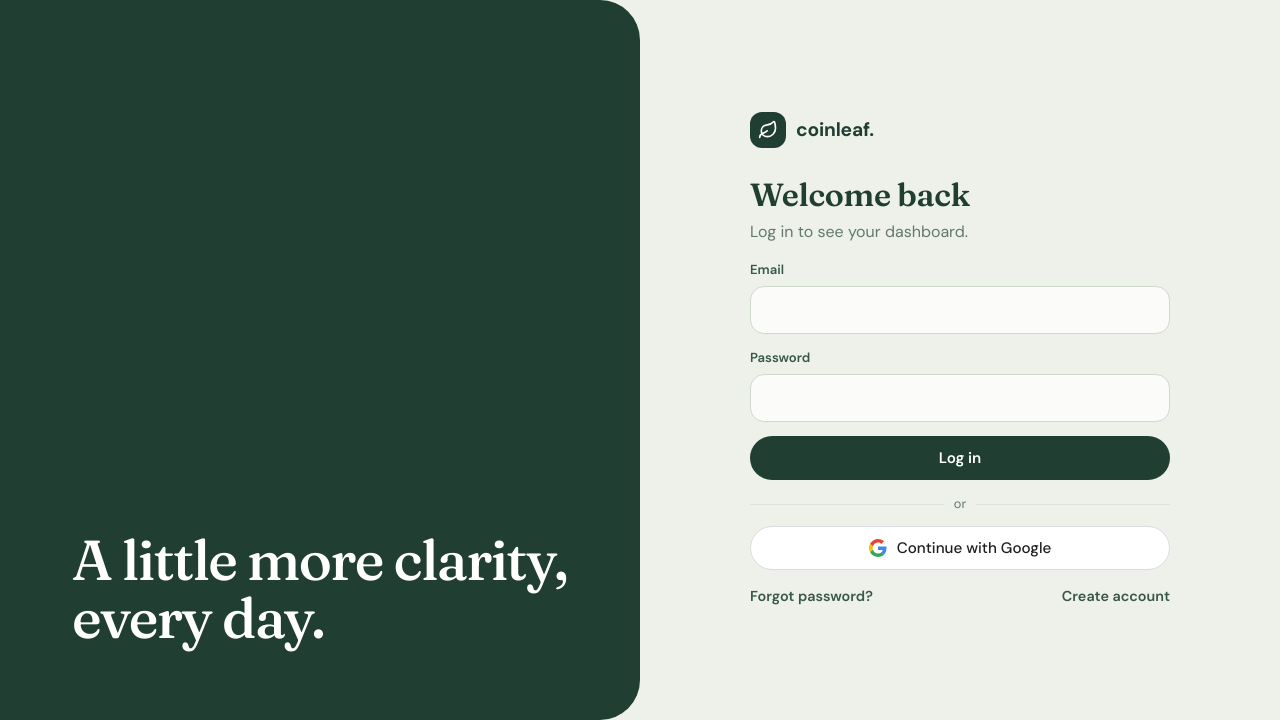
Test: login › shows the reason when sign in fails and lets you try again
Type "a@b.co" into the field labelled "Email" at (960, 310), box [750,286,1170,334]
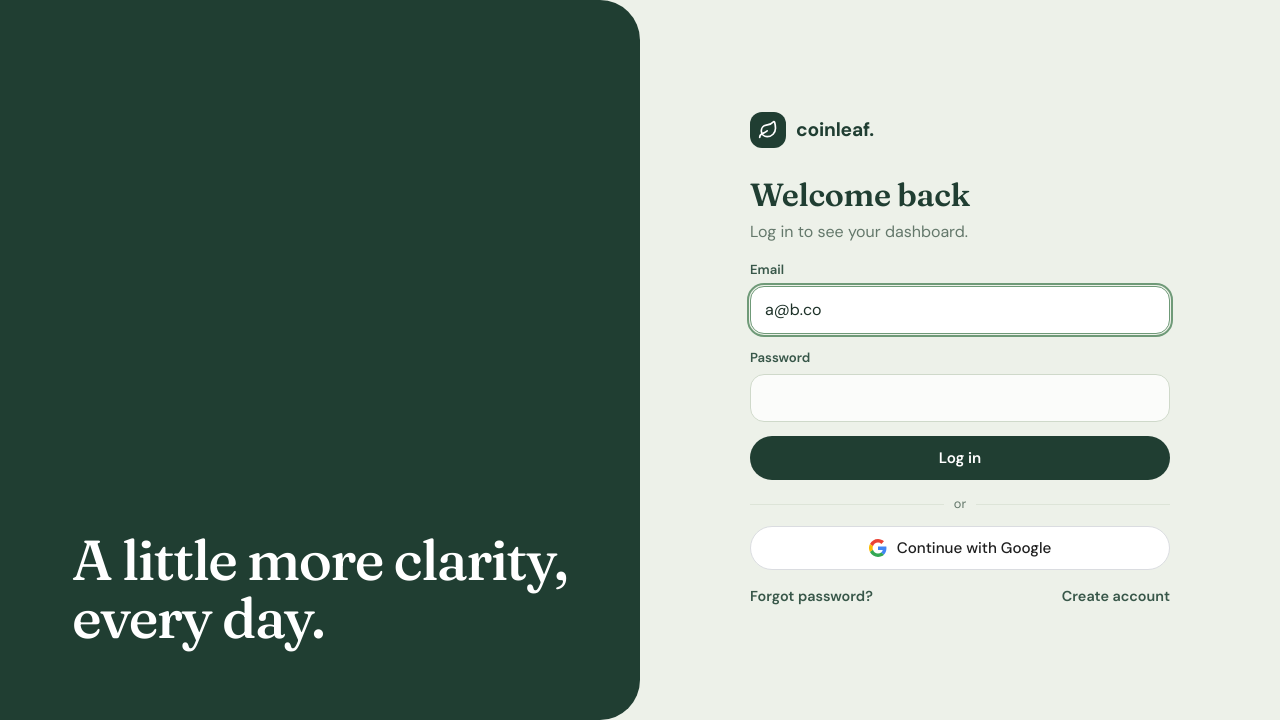
Type "secret-password" into the password field labelled "Password" at (960, 398), box [750,374,1170,422]
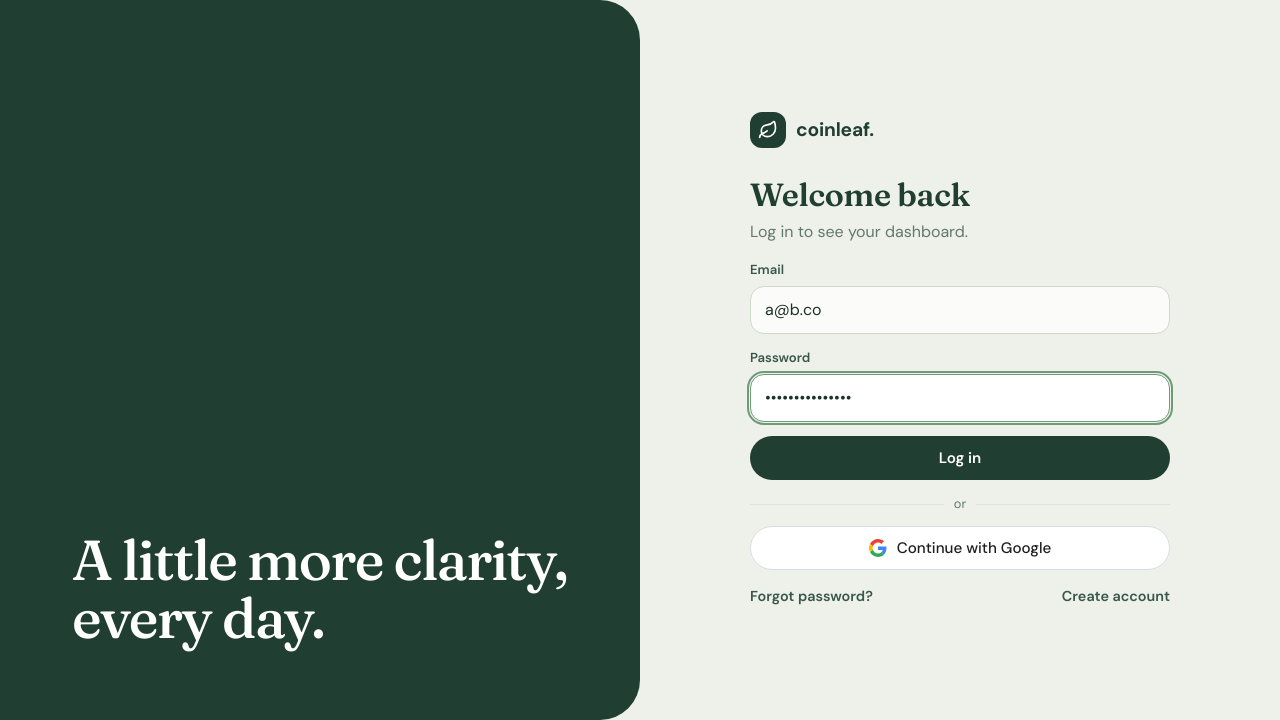
Click the button "Log in" at (960, 458), box [750,436,1170,480]
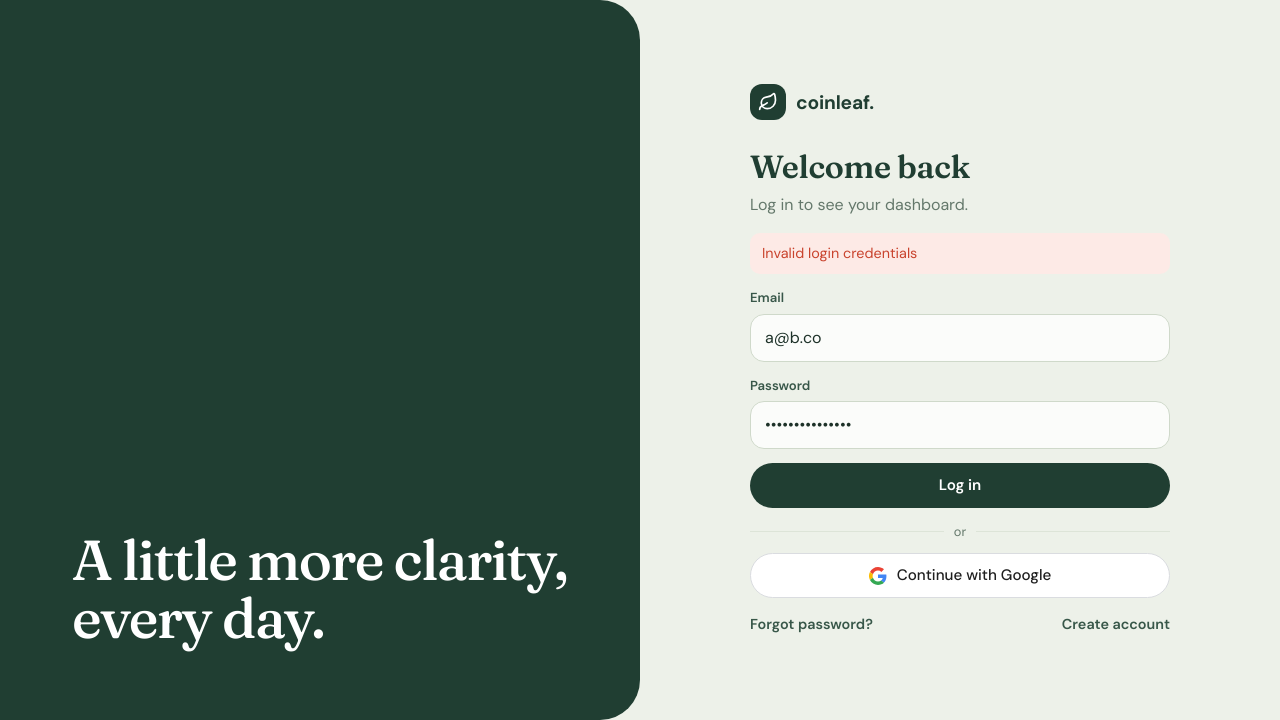
Expected: the button "Log in" is enabled, [750,464,1170,508]
Now the text "Invalid login credentials" is shown, box [750,232,1170,274]
